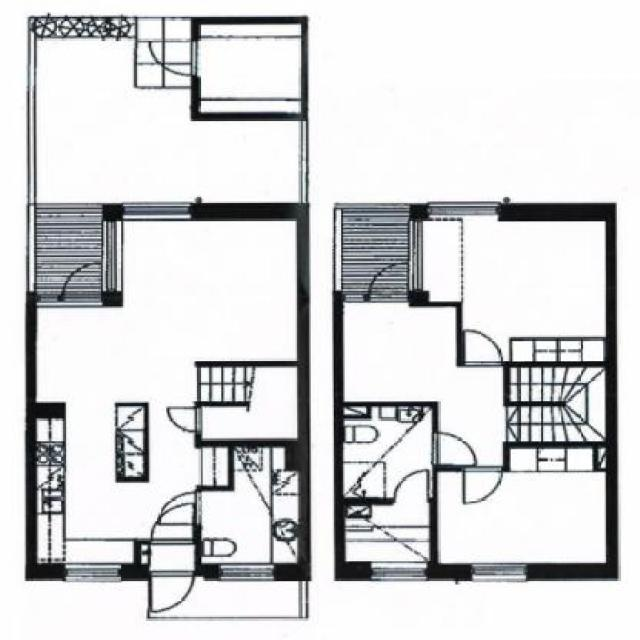door: (38, 219, 296, 566), (35, 15, 298, 203), (419, 215, 606, 360), (344, 302, 508, 463), (440, 472, 603, 560), (195, 20, 300, 115), (34, 203, 118, 305), (332, 203, 414, 300), (342, 403, 424, 492), (198, 364, 294, 438), (337, 503, 432, 563)
window: (146, 504, 199, 614), (462, 326, 509, 374), (429, 426, 478, 468), (59, 262, 106, 302), (144, 38, 193, 76), (463, 465, 508, 506), (371, 260, 414, 300), (158, 491, 204, 522), (394, 469, 429, 502), (163, 403, 200, 434)
zone: (406, 217, 423, 295), (426, 200, 497, 218), (124, 203, 190, 219), (471, 564, 526, 582), (222, 563, 272, 582), (372, 562, 428, 578), (68, 564, 117, 582)
